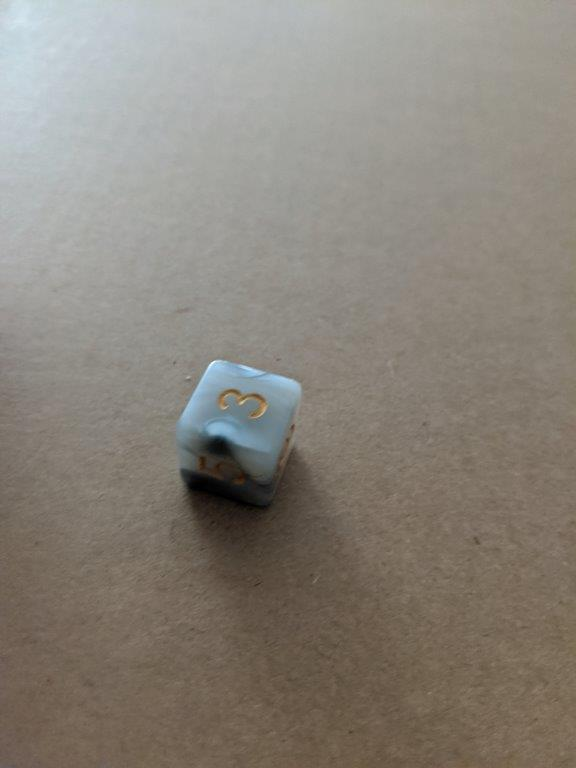d6-3: (177, 359, 302, 514)
